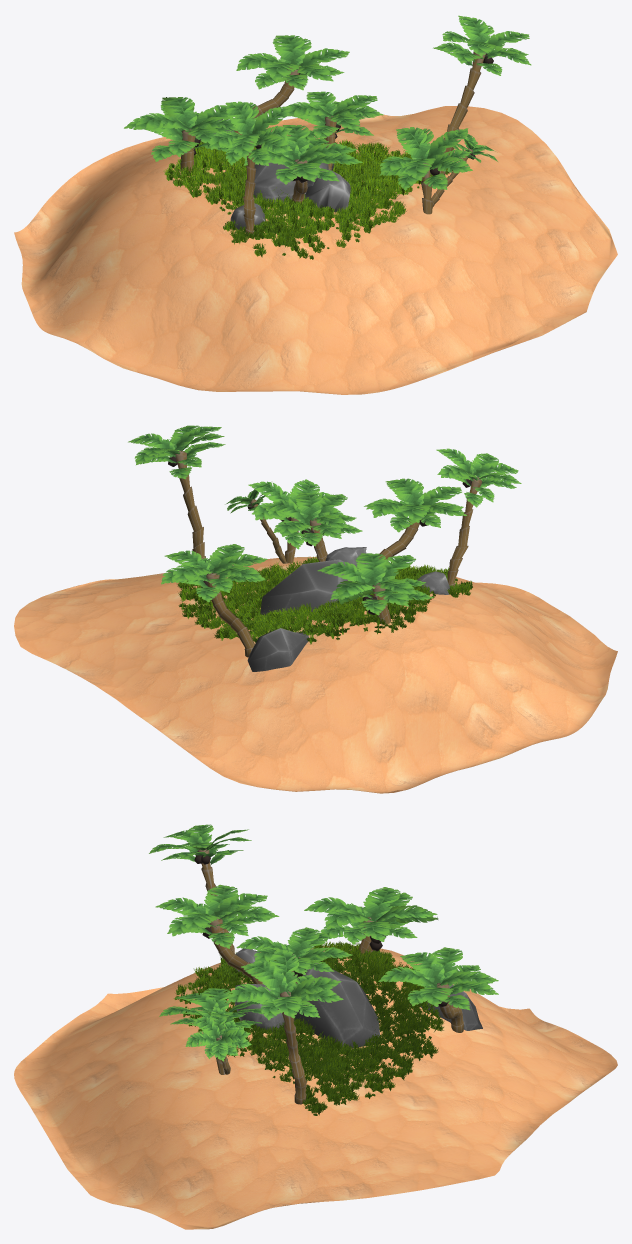
The model's file is first island.fbx.
The picture shows the model from 3 angles, top to bottom: view 1: azimuth 30°, elevation 25°; view 2: azimuth 150°, elevation 25°; view 3: azimuth 270°, elevation 25°; orthographic projection. The views are drawn at different scales.
Visible parts, largest first — view 1: Landscape; view 2: Landscape; view 3: Landscape.
Boxes of the visible parts, box(x1,y1,x2,y2) form: Landscape: box(14, 15, 617, 394); Landscape: box(14, 425, 617, 793); Landscape: box(14, 824, 617, 1229).
Size of the model in its own units: 38064 by 16047 by 36472.
Materials: 10 (10 with a texture image).
